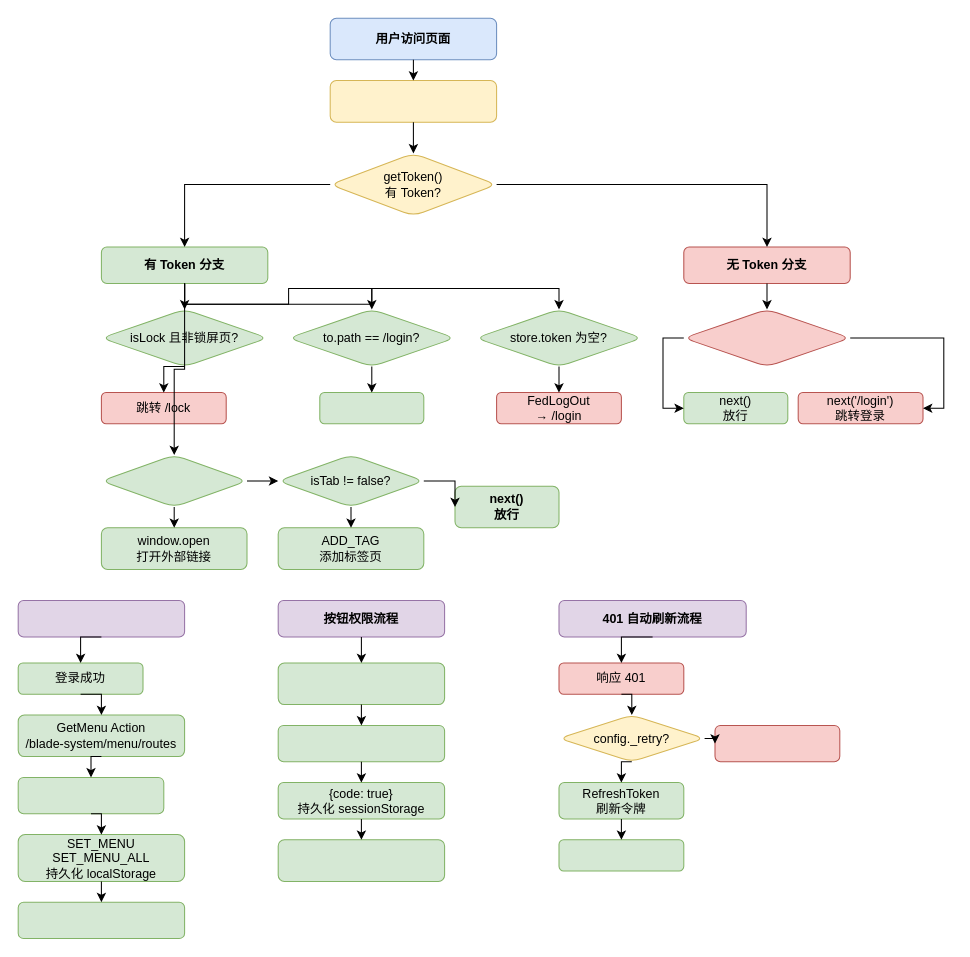
This 970x957 diagram has some shape labels left out. Each missing label, with the centre of its shape:
formatPath 处理菜单节点: [90,795]
formatRoutes addRoute 动态注册: [101,920]
GetButtons Action /blade-system/menu/buttons: [361,683]
meta.isAuth==false?: [766,337]
meta.target?: [173,480]
router.beforeEach: [413,101]
SET_PERMISSION 递归提取 code: [361,743]
清除 Token → /login: [777,743]
菜单权限流程: [101,618]
跳转 /: [371,408]
重试原请求: [621,855]
页面 v-if="permission.xxx" 控制按钮显隐: [361,860]
